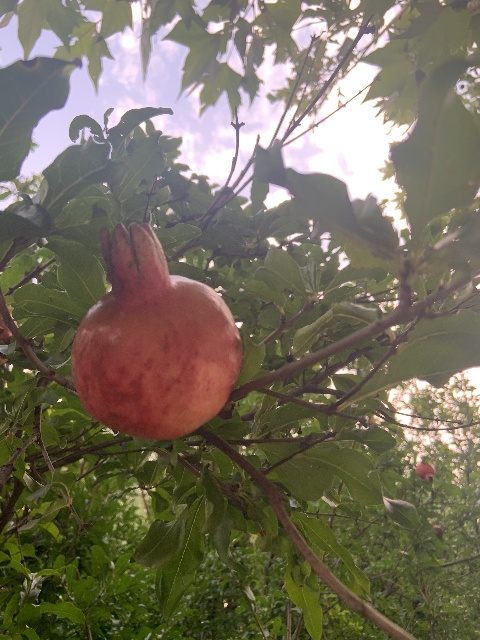ripe: (69, 221, 243, 440), (415, 462, 436, 483)
